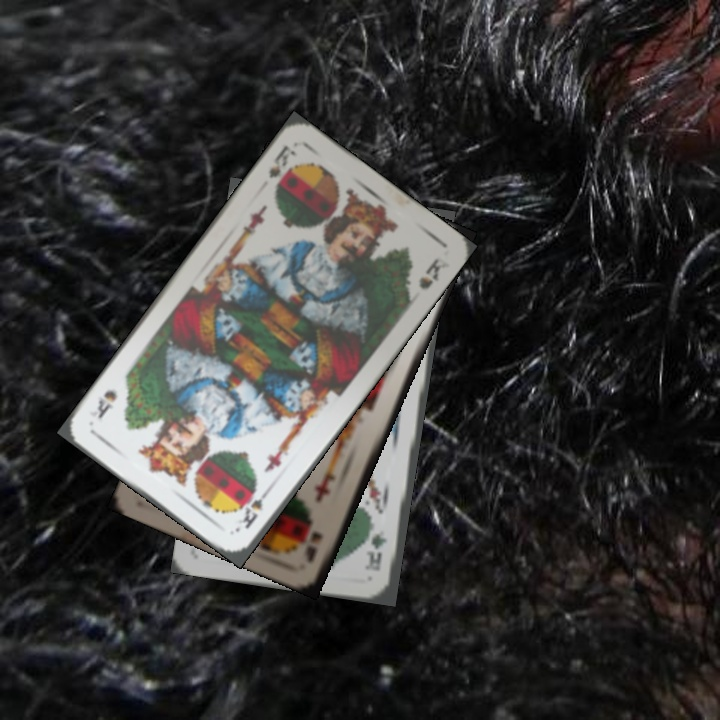GK: (365, 526, 389, 574)
SK: (234, 483, 274, 532), (264, 140, 300, 191), (301, 528, 325, 565)
